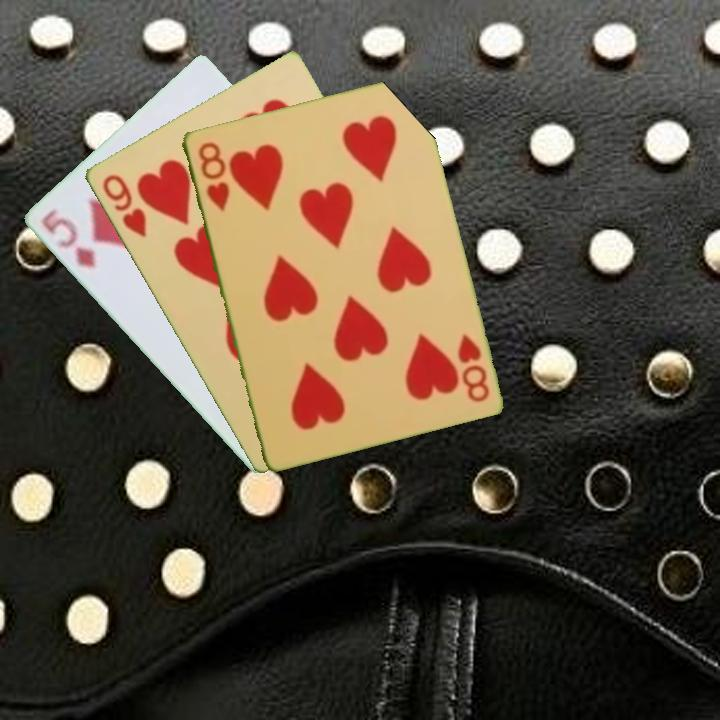5d: (37, 204, 99, 272)
8h: (453, 330, 492, 405), (194, 138, 232, 214)
9h: (98, 170, 149, 241)
